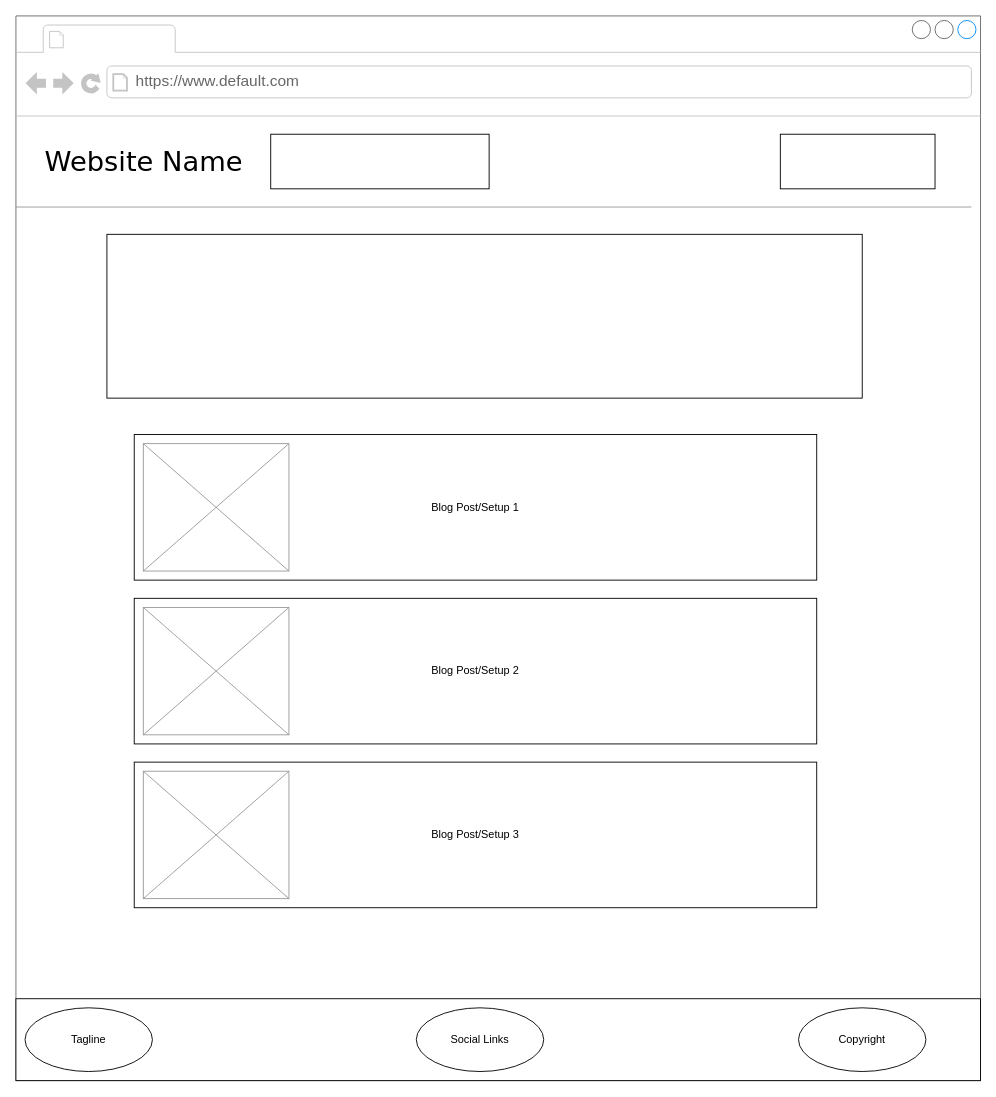
This 996x1097 diagram has some shape labels left out. Each missing label, with the centre of its shape:
"Login Status" goes at [857,161].
"Navigation Links" goes at [379,161].
"Page 1" goes at [120,38].
"Service information" goes at [484,315].
